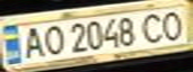0: (84, 18, 106, 51)
2: (66, 20, 87, 53)
4: (103, 16, 124, 48)
8: (115, 14, 142, 47)
A: (18, 25, 48, 60)
C: (136, 11, 172, 44)
O: (157, 8, 190, 42), (39, 22, 66, 56)
